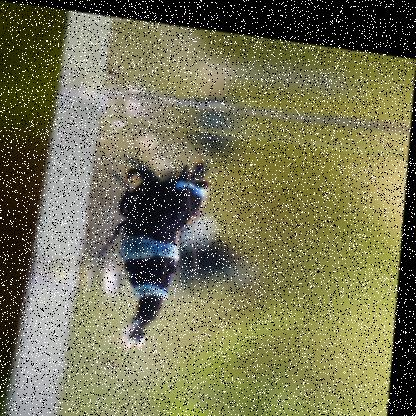shrimp: (94, 138, 217, 358)
